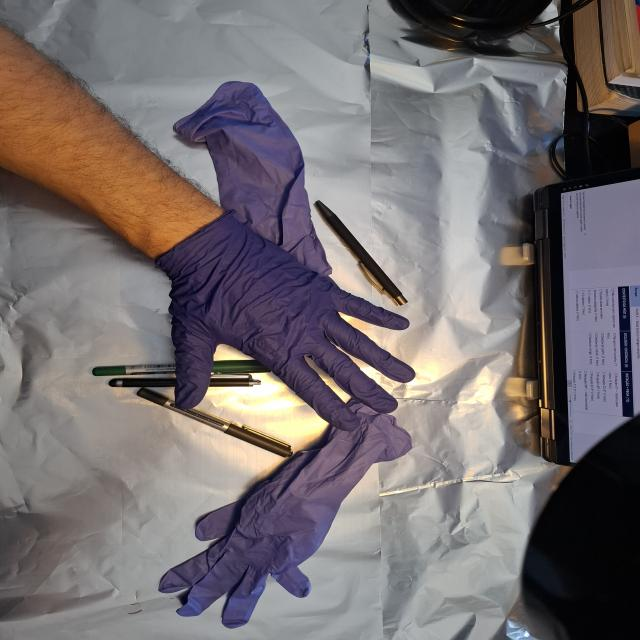glove_on: (163, 213, 420, 433)
